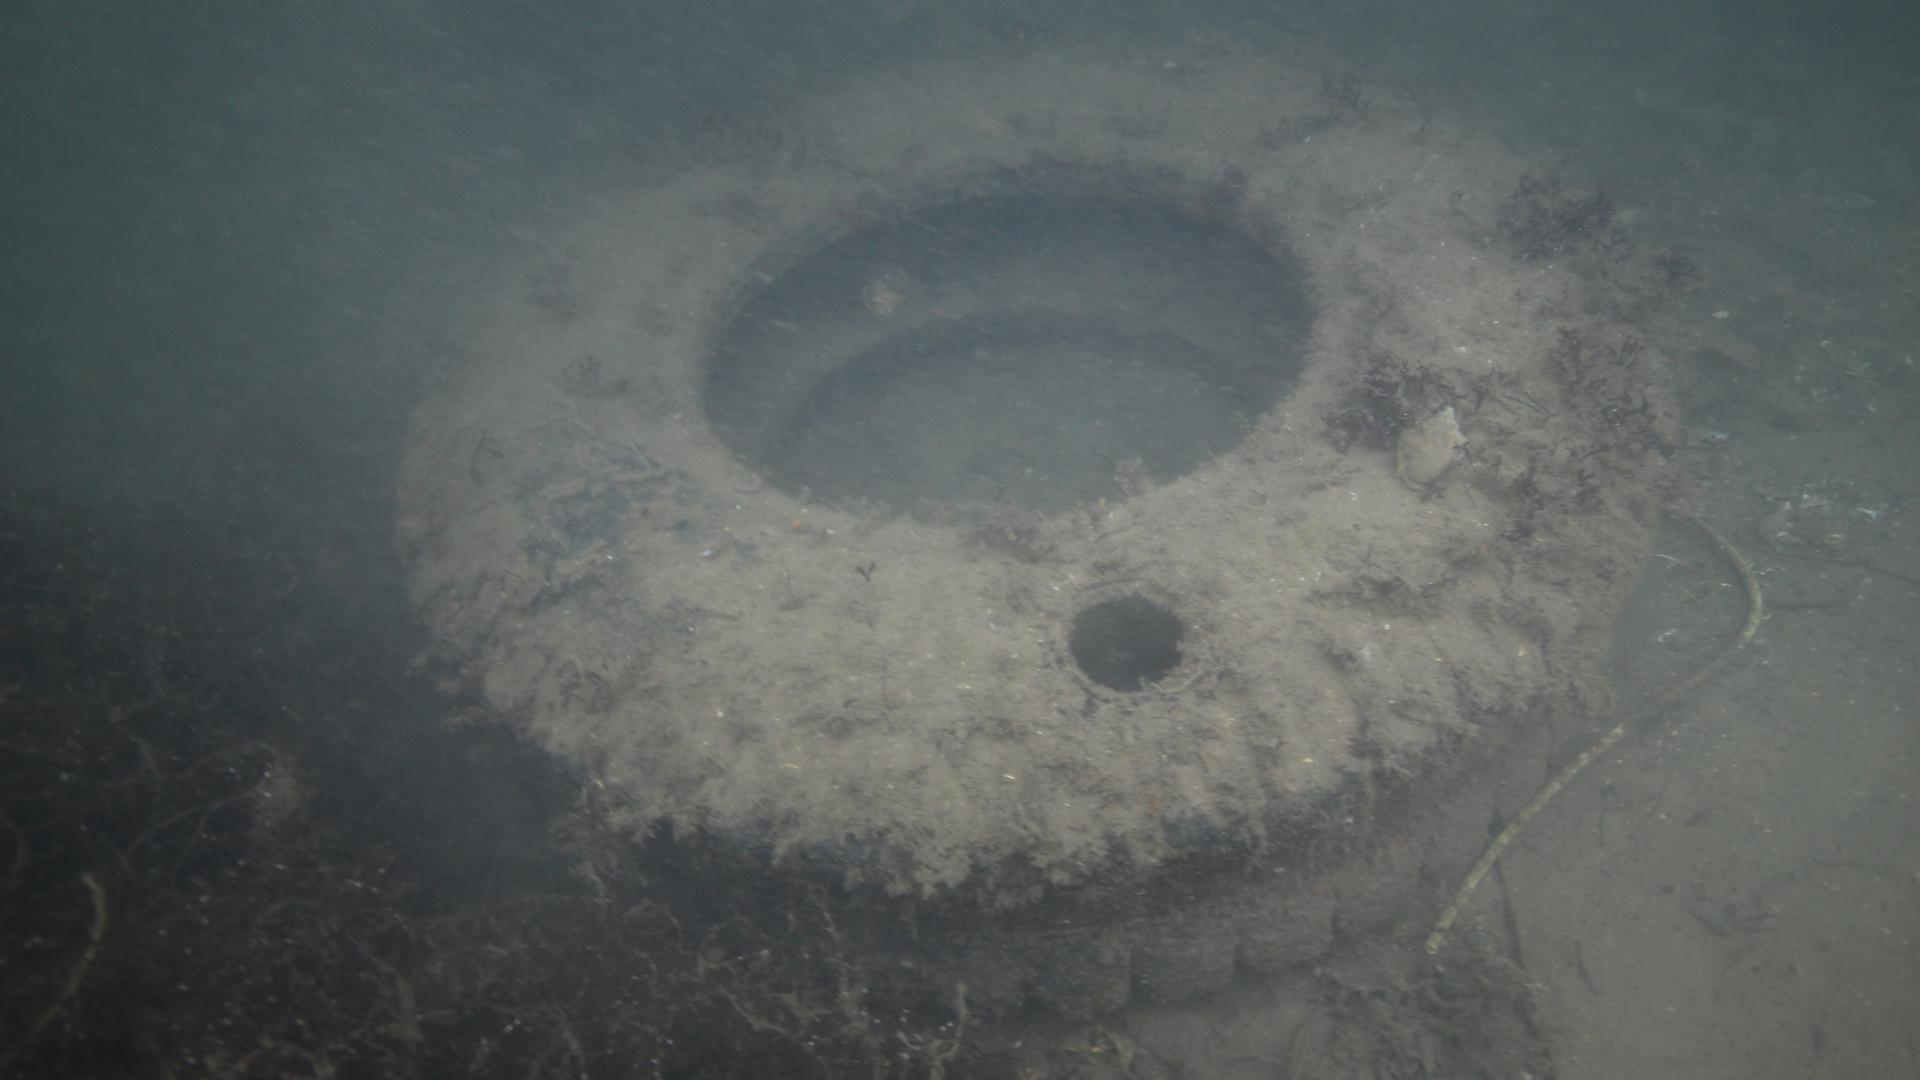tire: (393, 30, 1681, 1025)
